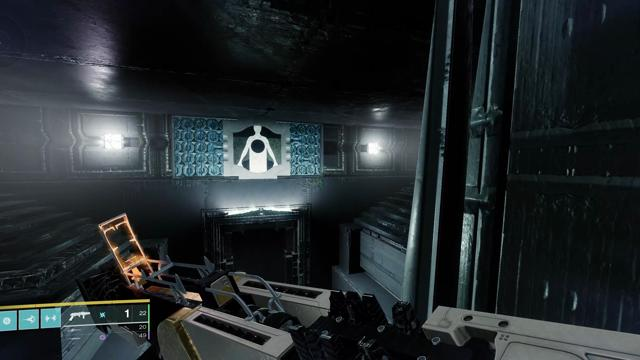grief: (233, 126, 282, 173)
